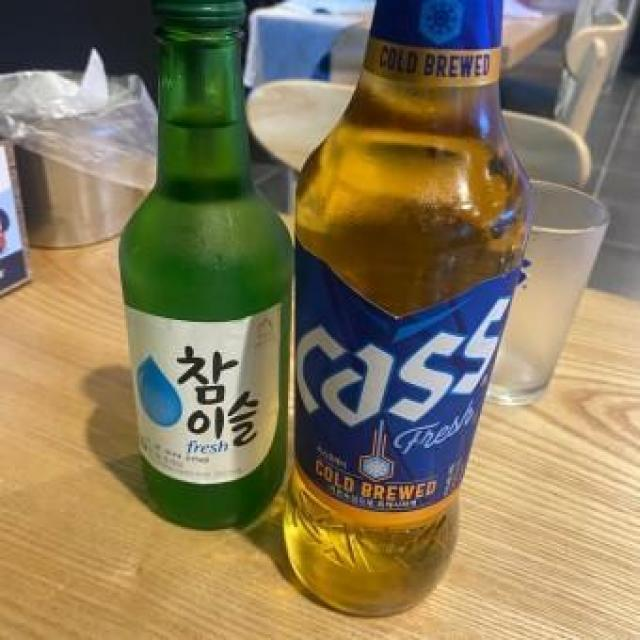beer-bottle: (276, 0, 540, 614)
soju-bottle: (120, 0, 296, 561)
